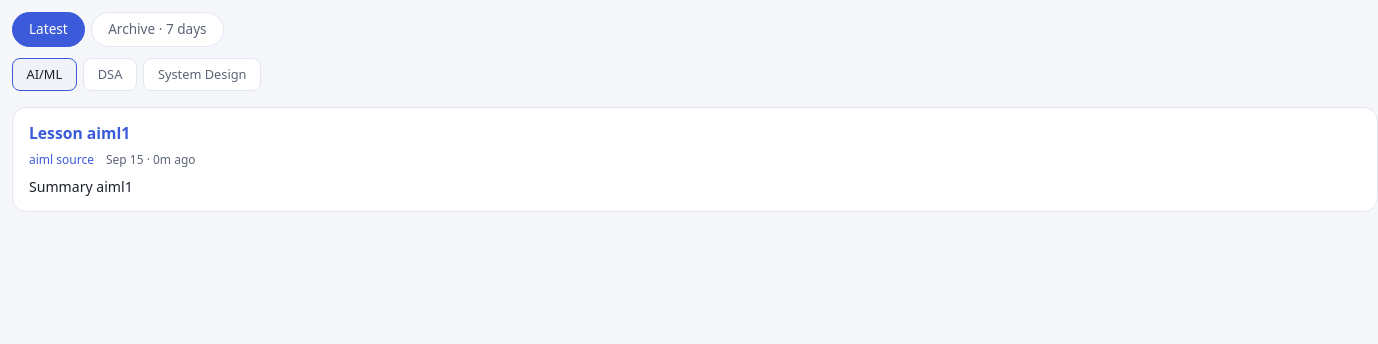
it: KnowledgeFeed — series filtering › shows only the selected series' lessons
The image size is (1378, 344).
Click the tab "DSA": (110, 75) [83,58,137,91]
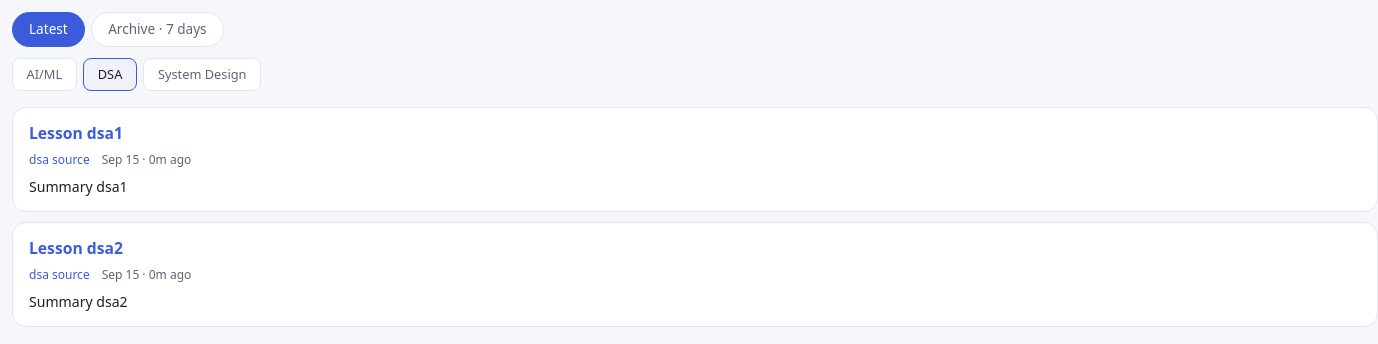
Expected: the link "Lesson dsa1" is shown, [29,122,123,144]
Expected: the link "Lesson dsa2" is shown, [29,237,123,259]
Expected: the link "Lesson aiml1" no longer shows "Lesson aiml1"
